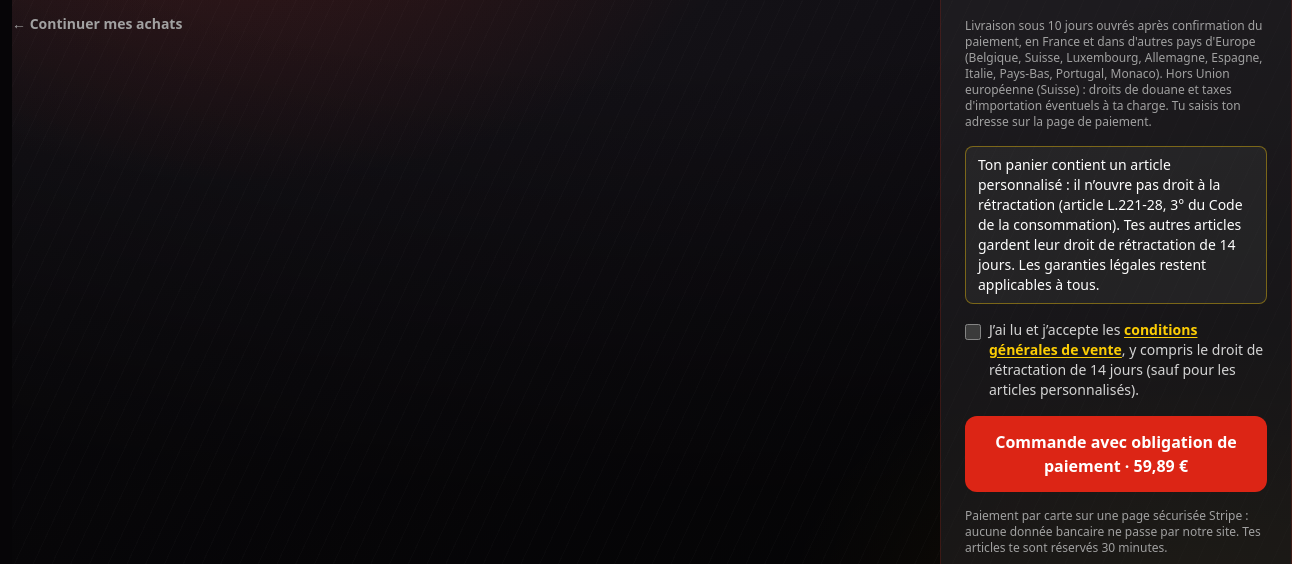
CartView : articles personnalisés › refus de la base (personnalisation) : message dédié
Click the checkbox: (973, 332) [965,324,981,340]
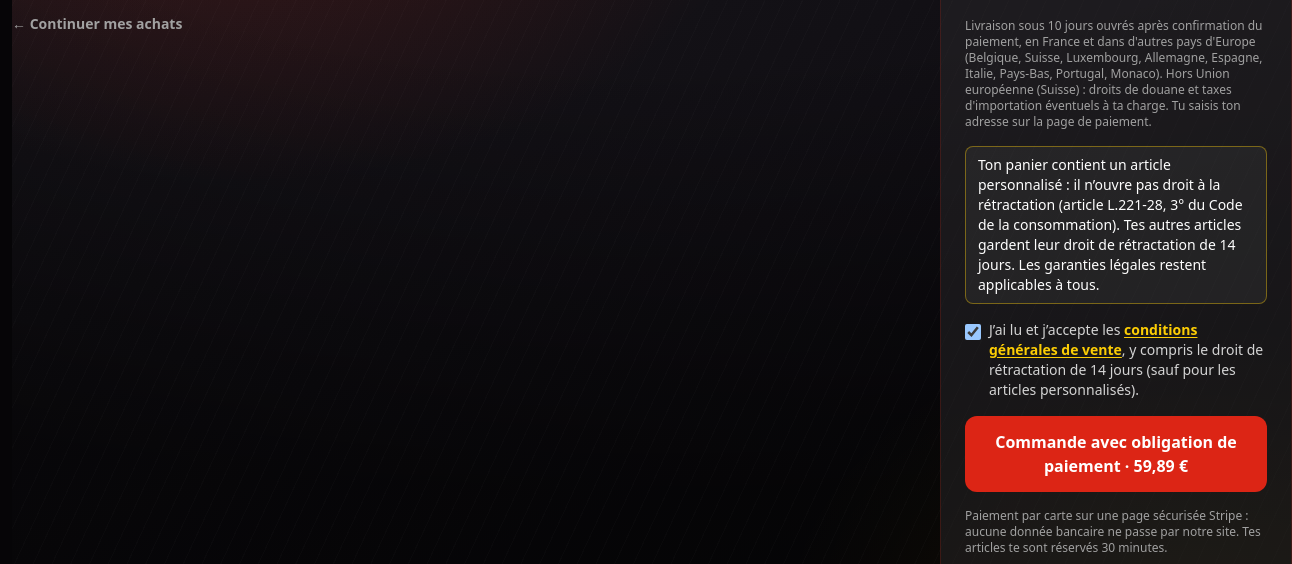
Click the button "Commande avec obligation de paiement · 59,89 €": (1116, 454) [965,416,1267,492]
(page scrolled)
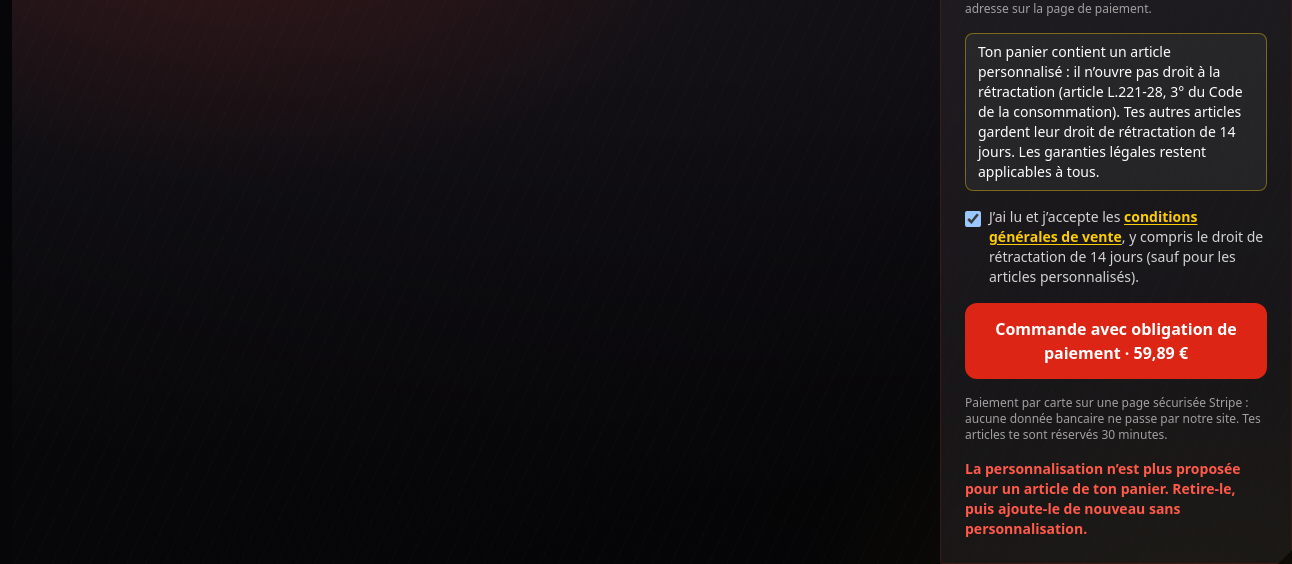
Expected: the text "La personnalisation n’est plus proposée pour un article de ton panier. Retire-le, puis ajoute-le de nouveau sans personn" is shown, [965,459,1241,538]
